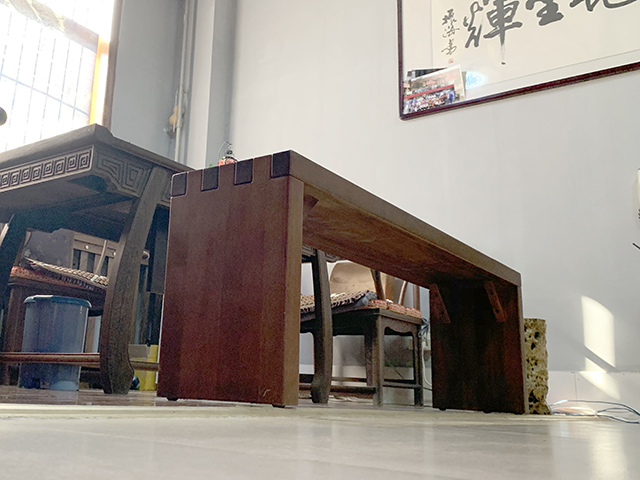stool: (299, 259, 425, 407)
table: (154, 150, 530, 415), (1, 124, 195, 396)
trashcan: (16, 294, 92, 391)
wire: (546, 398, 640, 426)
